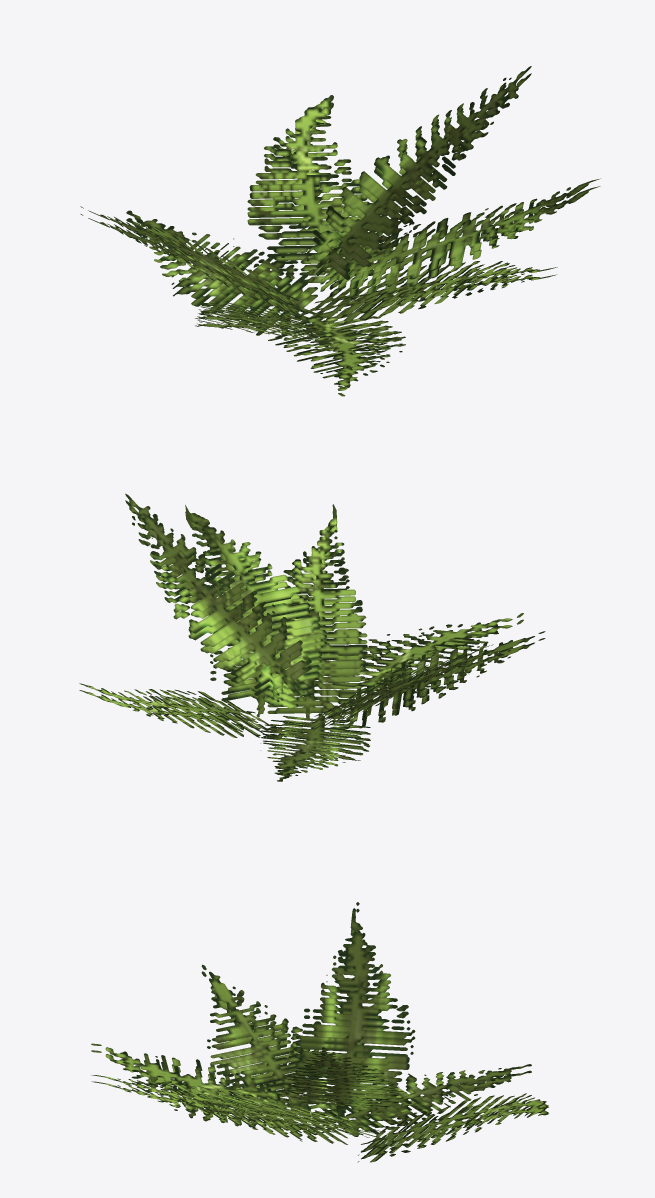
File: ferns.glb
The picture shows the model from 3 angles, top to bottom: view 1: azimuth 30°, elevation 25°; view 2: azimuth 150°, elevation 25°; view 3: azimuth 270°, elevation 25°; orthographic projection. The views are drawn at different scales.
Parts seen in each view (by area): view 1: ferns; view 2: ferns; view 3: ferns.
Part boxes in pixels (x1,y1,x2,y2): ferns: [80, 66, 600, 396]; ferns: [79, 493, 545, 781]; ferns: [91, 902, 548, 1162].
Bounding box in the file's own units: 2.9 × 1.25 × 3.25.
1 material, 1 textured.
